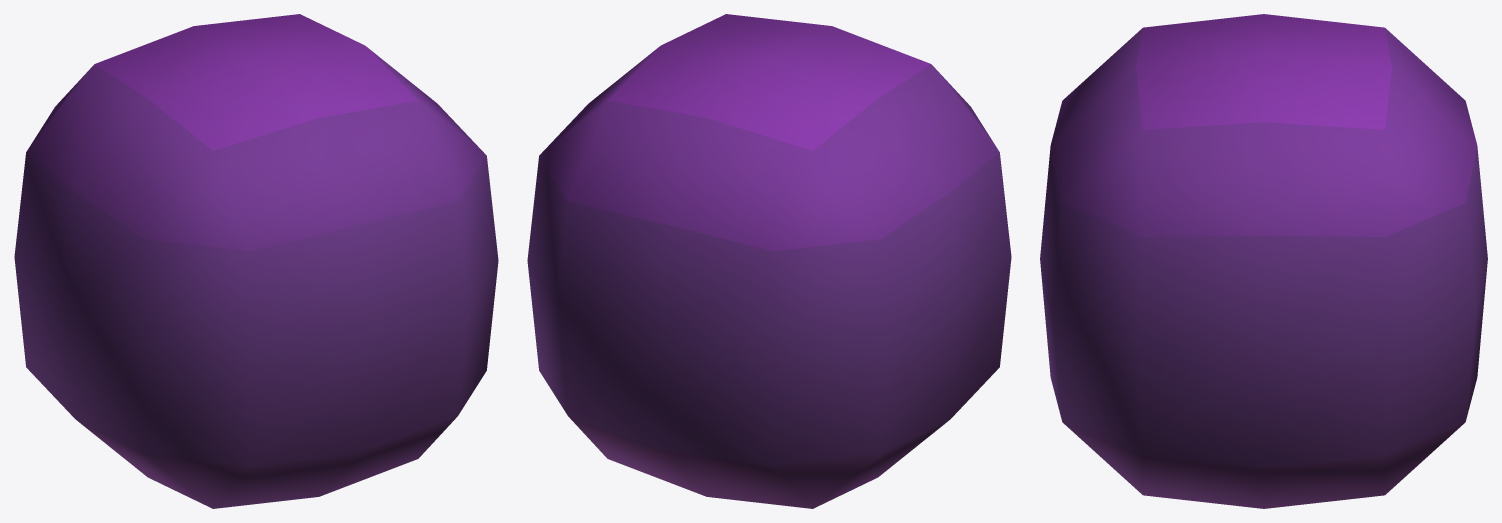
File: ball_medium_small_purple.fbx
3 renders of one model, left to right at view 1: azimuth 30°, elevation 25°; view 2: azimuth 150°, elevation 25°; view 3: azimuth 270°, elevation 25°, orthographic. The views are drawn at different scales.
Visible parts, largest first — view 1: ball_medium_small_purple; view 2: ball_medium_small_purple; view 3: ball_medium_small_purple.
Boxes of the visible parts, left/top/right/bottom form: ball_medium_small_purple: left=14, top=14, right=498, bottom=508; ball_medium_small_purple: left=527, top=14, right=1011, bottom=508; ball_medium_small_purple: left=1040, top=14, right=1487, bottom=508.
Bounding box in the file's own units: 55.97 × 56.34 × 55.97.
1 material, 1 textured.
